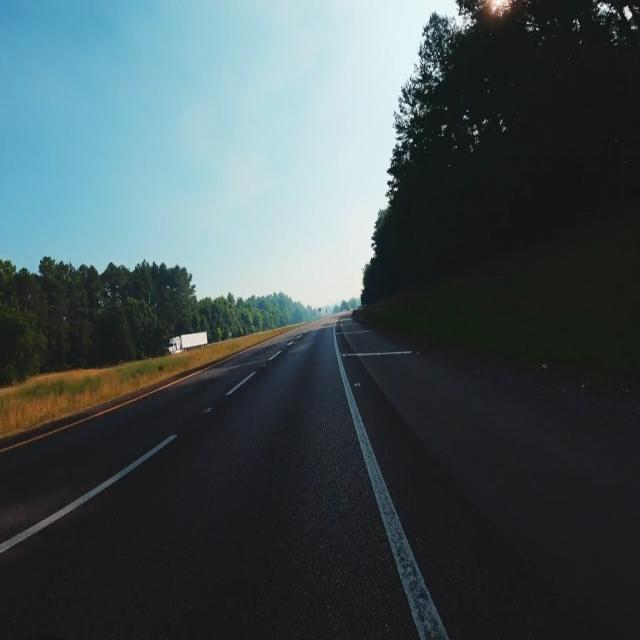asphalt: (0, 315, 640, 639)
grass: (0, 321, 307, 439)
